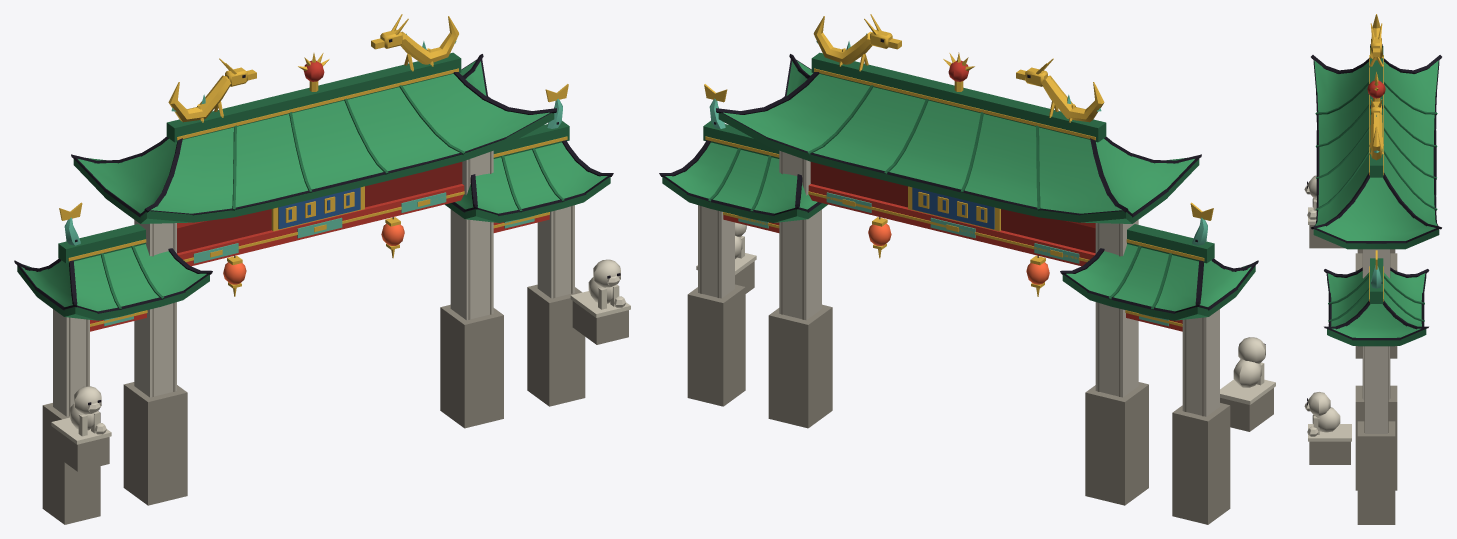
The model's file is dragon_gate.glb.
3 views of the same model, side by side, from view 1: azimuth 30°, elevation 25°; view 2: azimuth 150°, elevation 25°; view 3: azimuth 270°, elevation 25° (orthographic). The views are drawn at different scales.
Visible parts, largest first — view 1: gate, lions; view 2: gate, lions; view 3: gate, lions.
Part boxes in pixels (box(x1,y1,x2,y2)): gate: box(14, 14, 613, 524); lions: box(51, 259, 630, 471); gate: box(659, 14, 1258, 524); lions: box(696, 222, 1275, 431); gate: box(1311, 14, 1441, 524); lions: box(1304, 175, 1351, 464).
Size of the model in its own units: 22.4 by 16.03 by 5.65.
